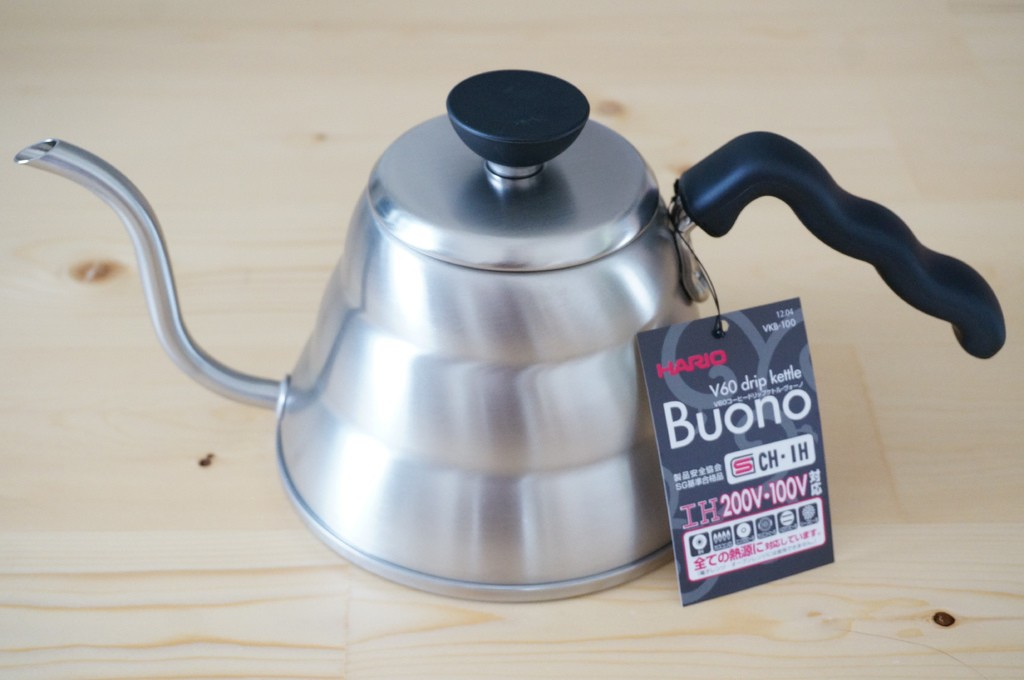teapot: (14, 68, 1006, 602)
